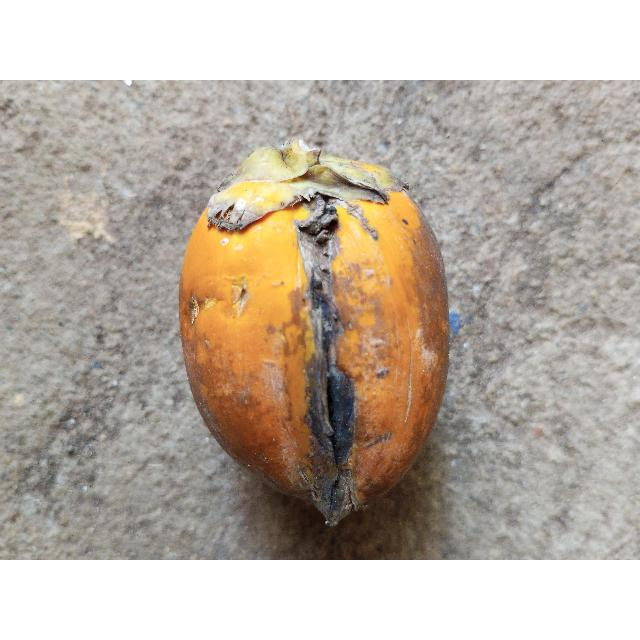damaged: (177, 140, 453, 529)
